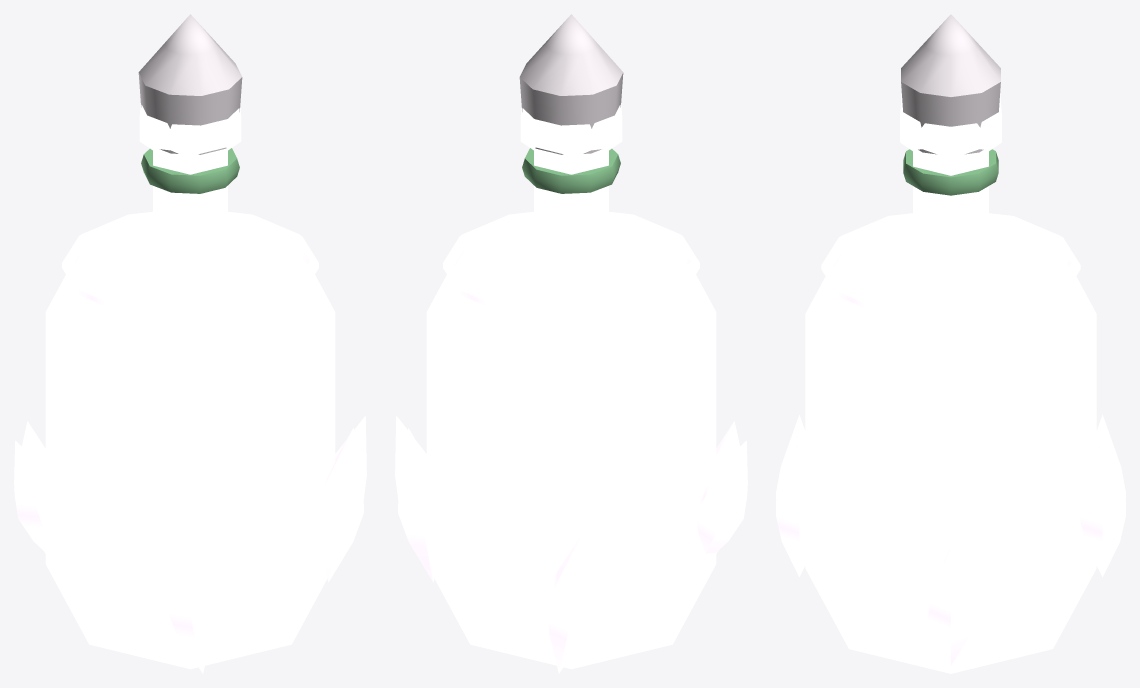
File: blinding_flask.glb
3 renders of one model, left to right at view 1: azimuth 30°, elevation 25°; view 2: azimuth 150°, elevation 25°; view 3: azimuth 270°, elevation 25°, orthographic.
Visible parts, largest first — view 1: frost_flask; view 2: frost_flask; view 3: frost_flask.
Boxes of the visible parts, box(x1,y1,x2,y2) form: frost_flask: box(14, 14, 366, 673); frost_flask: box(395, 14, 747, 673); frost_flask: box(776, 14, 1125, 673).
Size of the model in its own units: 0.1215 by 0.2 by 0.1039.
